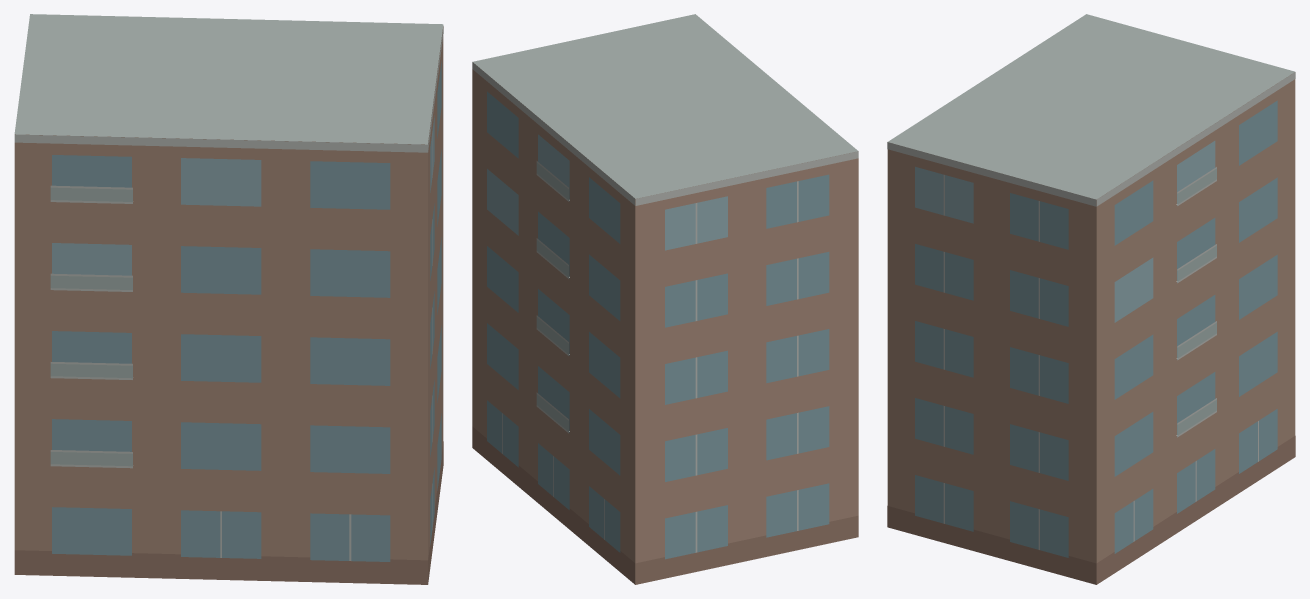
File: survey-upis-33042502.glb
The picture shows the model from 3 angles, left to right: view 1: azimuth 30°, elevation 25°; view 2: azimuth 150°, elevation 25°; view 3: azimuth 270°, elevation 25°; orthographic projection. The views are drawn at different scales.
Parts seen in each view (by area): view 1: survey-upis-33042502.tmp; view 2: survey-upis-33042502.tmp; view 3: survey-upis-33042502.tmp.
Boxes of the visible parts, x1=… form: survey-upis-33042502.tmp: x1=14, y1=14, x2=443, y2=584; survey-upis-33042502.tmp: x1=472, y1=14, x2=858, y2=584; survey-upis-33042502.tmp: x1=887, y1=14, x2=1295, y2=584.
Size of the model in its own units: 13.54 by 13.1 by 12.58.
